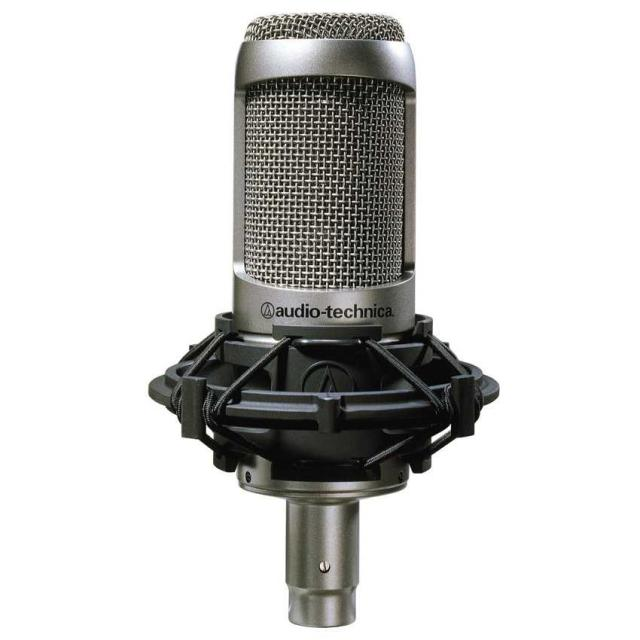microphone: (150, 11, 493, 628)
